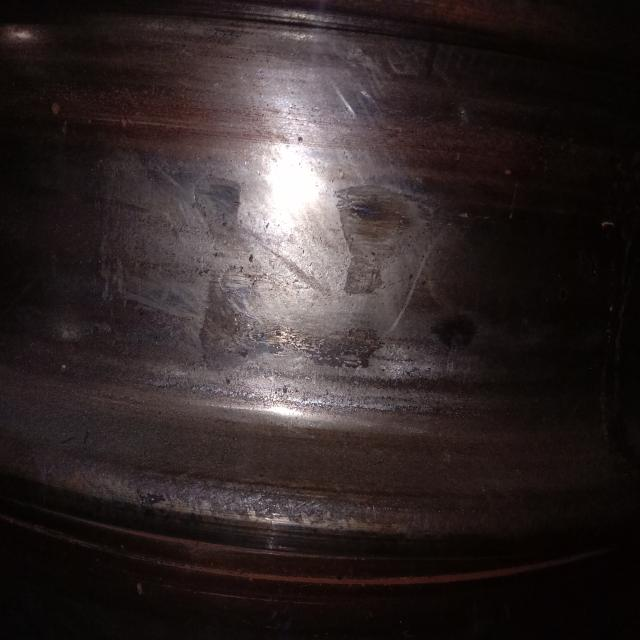Blue hole: (179, 158, 427, 387)
